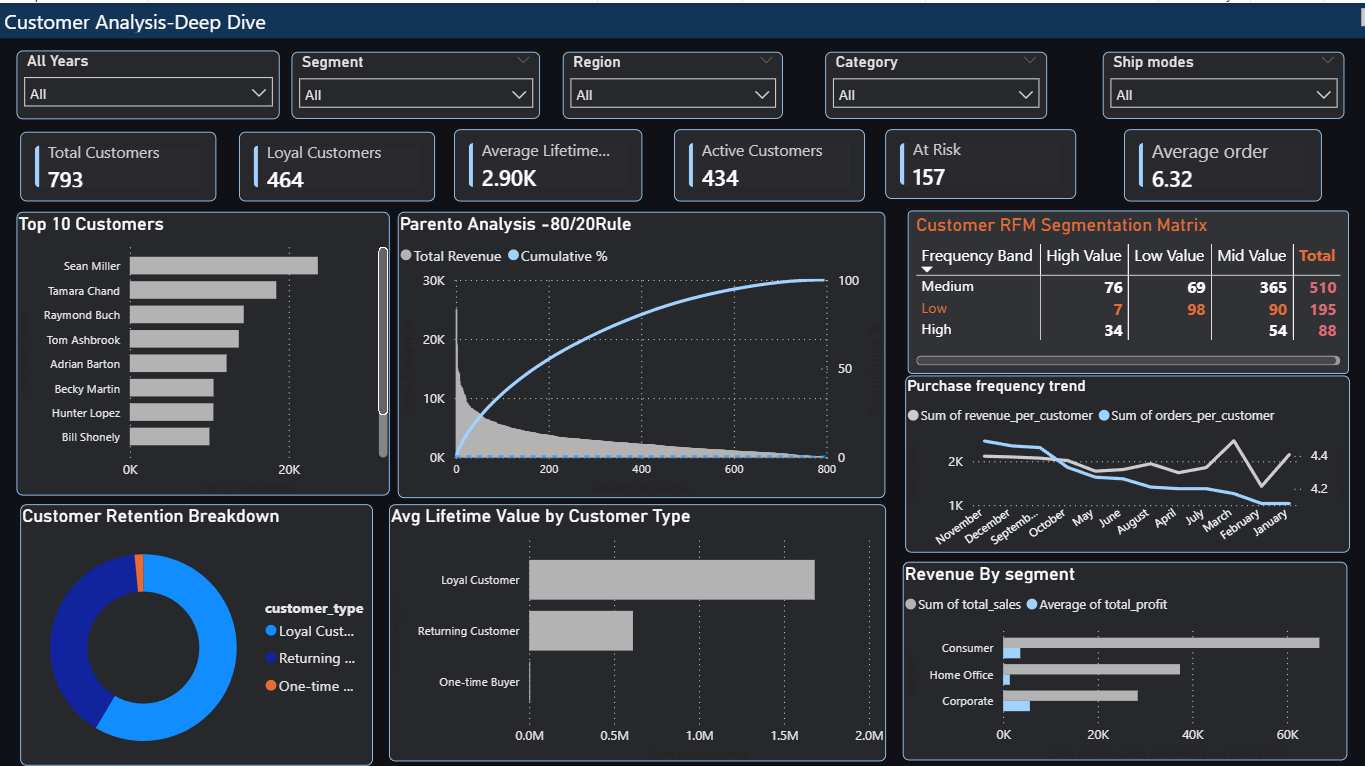

This screenshot's page, from the dashboard's own definition file:
{"tool":"powerbi","page":{"name":"Customer Analysis","canvas":[1280,720],"ordinal":1},"visuals":[{"type":"textbox","box":[0,0,1280,32.5],"z":0},{"type":"cardVisual","fields":{"Data":["Count(superstore orders.customer_id)"]},"box":[20,120,182.5,65],"z":2000},{"type":"cardVisual","fields":{"Data":["CountNonNull(superstore customer_retention.customer_type)"]},"box":[223.8,120,182.5,65],"z":3000},{"type":"cardVisual","fields":{"Data":["CountNonNull(superstore customer_churn_risk.churn_status)"]},"box":[627.5,117.5,177.5,67.5],"z":4000},{"type":"cardVisual","fields":{"Data":["Avg(superstore customer_retention.total_spent)"]},"box":[423.8,117.5,175,67.5],"z":5000},{"type":"clusteredBarChart","title":"Top 10 Customers ","fields":{"Category":["superstore top_customers.customer_name"],"Y":["Sum(superstore top_customers.total_sales)"]},"box":[16.2,193.8,347.5,263.8],"z":6000},{"type":"pivotTable","title":"Customer RFM Segmentation Matrix","fields":{"Columns":["superstore rfm_segments.monetary_band"],"Values":["CountNonNull(superstore rfm_segments.customer_name)"],"Rows":["superstore rfm_segments.frequency_band"]},"box":[845.3,193.5,410.3,152.3],"z":7000},{"type":"donutChart","title":"Customer Retention Breakdown","fields":{"Category":["superstore customer_retention.customer_type"],"Y":["CountNonNull(superstore customer_retention.customer_id)"]},"box":[20,466.7,327.8,243.3],"z":8000},{"type":"clusteredBarChart","title":"Avg Lifetime Value by Customer Type","fields":{"Category":["superstore customer_retention.customer_type"],"Y":["Sum(superstore customer_retention.total_spent)"]},"box":[362.8,466.3,462.8,239.5],"z":9000},{"type":"clusteredBarChart","title":"Revenue By segment","fields":{"Category":["superstore top_customers.segment"],"Y":["Sum(superstore top_customers.total_sales)","Avg(superstore top_customers.total_profit)"]},"box":[841.2,520,413.8,185],"z":10000},{"type":"slicer","fields":{"Values":["superstore orders.order_year"]},"box":[16.2,43.8,245,63.8],"z":11000},{"type":"slicer","fields":{"Values":["superstore orders.region"]},"box":[525,45,205,62.5],"z":12000},{"type":"slicer","fields":{"Values":["superstore orders.segment"]},"box":[272.5,45,231.2,62.5],"z":13000},{"type":"cardVisual","fields":{"Data":["superstore customer_churn_risk.Average order"]},"box":[1046.2,117.5,183.8,67.5],"z":14000},{"type":"cardVisual","fields":{"Data":["CountNonNull(superstore customer_retention.customer_id)"]},"box":[825,117.5,177.5,65],"z":15000},{"type":"lineClusteredColumnComboChart","title":"Parento Analysis -80/20Rule","fields":{"Category":["superstore pareto_analysis.revenue_rank"],"Y":["Sum(superstore pareto_analysis.total_revenue)"],"Y2":["Sum(superstore pareto_analysis.cumulative_pct)"]},"box":[371.2,193.8,453.8,266.2],"z":16000},{"type":"lineChart","title":"Purchase frequency trend","fields":{"Y":["Sum(superstore purchase_frequency_trend.revenue_per_customer)"],"Category":["superstore purchase_frequency_trend.order_month"],"Y2":["Sum(superstore purchase_frequency_trend.orders_per_customer)"]},"box":[842.5,346.2,413.8,165],"z":17000},{"type":"slicer","fields":{"Values":["superstore orders.ship_mode"]},"box":[1026.2,45,225,62.5],"z":18000},{"type":"slicer","fields":{"Values":["superstore orders.category"]},"box":[768.8,45,206.2,62.5],"z":19000}]}

Visuals, with their boxes in screenshot pixels (x1, y1, x2, y2), scaled from the page's 1280x720 canvas onto the 1365x766 screenshot:
textbox: pyautogui.locateOnScreen(0, 0, 1364, 35)
cardVisual - Count(superstore orders.customer_id): pyautogui.locateOnScreen(21, 128, 216, 197)
cardVisual - CountNonNull(superstore customer_retention.customer_type): pyautogui.locateOnScreen(239, 128, 433, 197)
cardVisual - CountNonNull(superstore customer_churn_risk.churn_status): pyautogui.locateOnScreen(669, 125, 858, 197)
cardVisual - Avg(superstore customer_retention.total_spent): pyautogui.locateOnScreen(452, 125, 639, 197)
"Top 10 Customers " clusteredBarChart: pyautogui.locateOnScreen(17, 206, 388, 487)
"Customer RFM Segmentation Matrix" pivotTable: pyautogui.locateOnScreen(901, 206, 1339, 368)
"Customer Retention Breakdown" donutChart: pyautogui.locateOnScreen(21, 497, 371, 755)
"Avg Lifetime Value by Customer Type" clusteredBarChart: pyautogui.locateOnScreen(387, 496, 880, 751)
"Revenue By segment" clusteredBarChart: pyautogui.locateOnScreen(897, 553, 1338, 750)
slicer - superstore orders.order_year: pyautogui.locateOnScreen(17, 47, 279, 114)
slicer - superstore orders.region: pyautogui.locateOnScreen(560, 48, 778, 114)
slicer - superstore orders.segment: pyautogui.locateOnScreen(291, 48, 537, 114)
cardVisual - superstore customer_churn_risk.Average order: pyautogui.locateOnScreen(1116, 125, 1312, 197)
cardVisual - CountNonNull(superstore customer_retention.customer_id): pyautogui.locateOnScreen(880, 125, 1069, 194)
"Parento Analysis -80/20Rule" lineClusteredColumnComboChart: pyautogui.locateOnScreen(396, 206, 880, 489)
"Purchase frequency trend" lineChart: pyautogui.locateOnScreen(898, 368, 1340, 544)
slicer - superstore orders.ship_mode: pyautogui.locateOnScreen(1094, 48, 1334, 114)
slicer - superstore orders.category: pyautogui.locateOnScreen(820, 48, 1040, 114)
